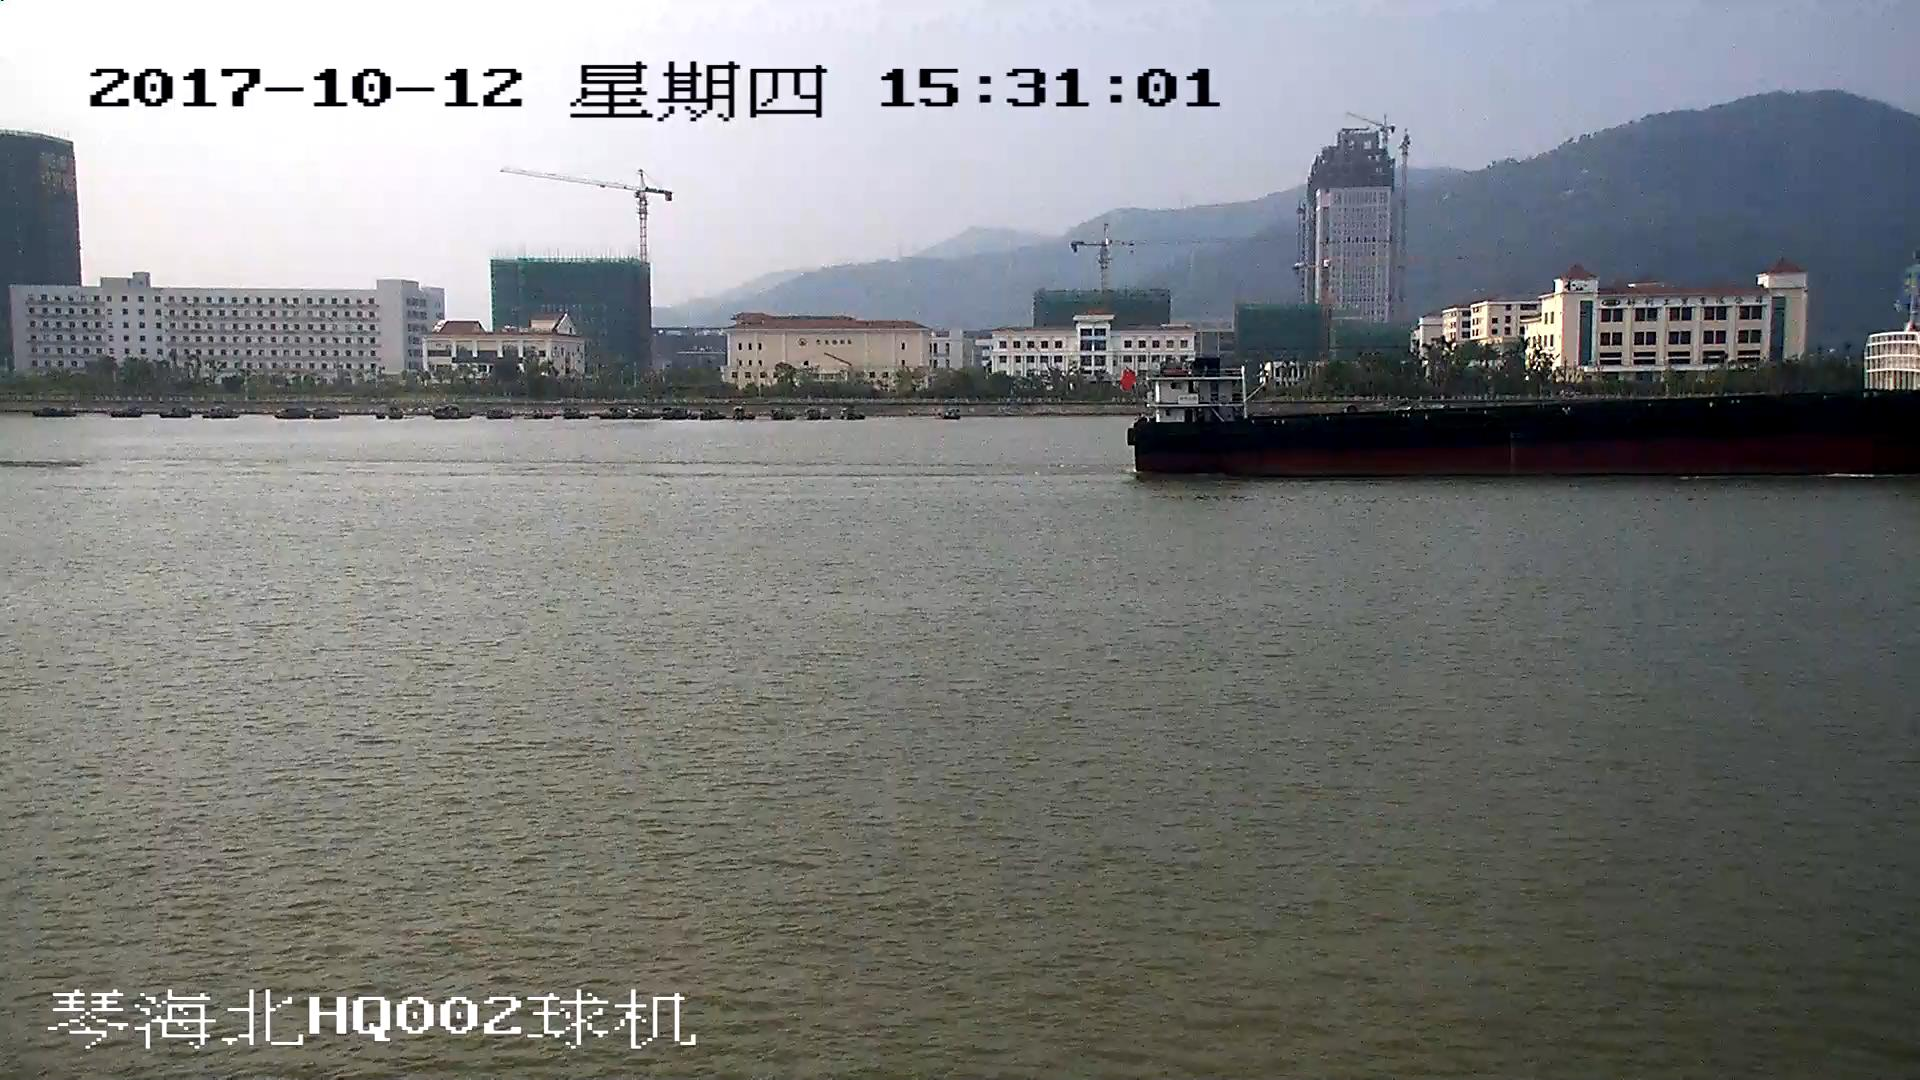general cargo ship: (1127, 336, 1920, 477)
